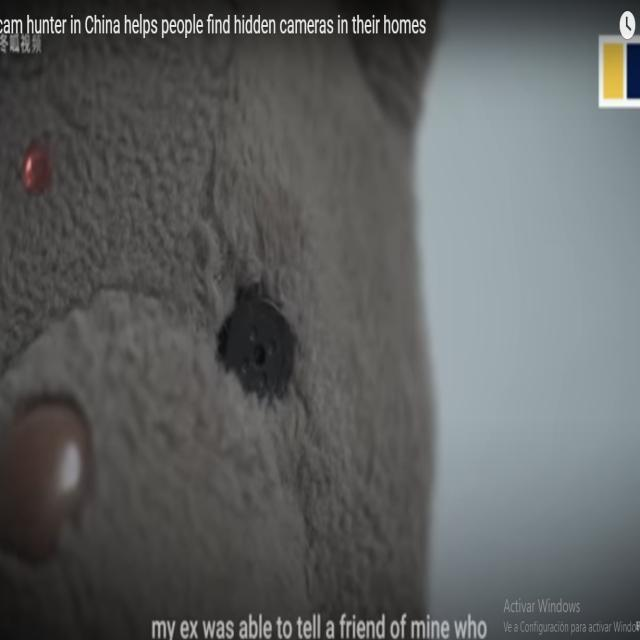hidden camera: (251, 339, 268, 368)
